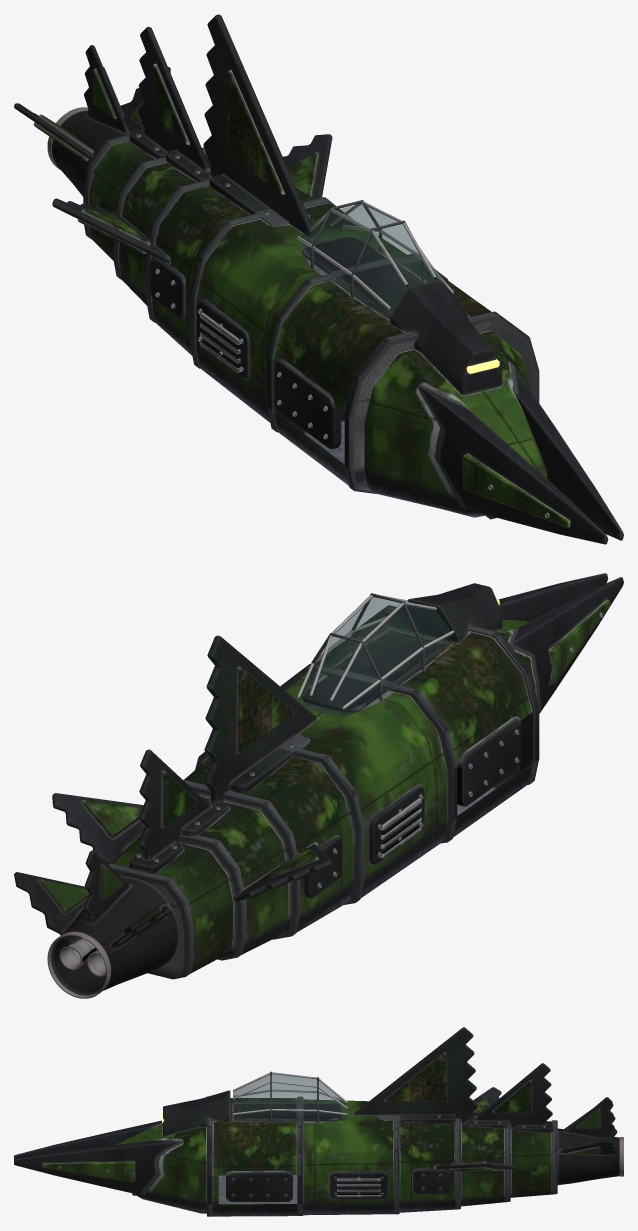
File: mantis.glb
3 renders of one model, top to bottom at view 1: azimuth 30°, elevation 25°; view 2: azimuth 150°, elevation 25°; view 3: azimuth 270°, elevation 25°, orthographic. The views are drawn at different scales.
Visible parts, largest first — view 1: mantis_body, canopy; view 2: mantis_body, canopy; view 3: mantis_body, canopy.
Boxes of the visible parts, x1=… form: mantis_body: x1=14, y1=14, x2=623, y2=544; canopy: x1=298, y1=204, x2=448, y2=319; mantis_body: x1=14, y1=573, x2=623, y2=998; canopy: x1=298, y1=597, x2=452, y2=717; mantis_body: x1=14, y1=1027, x2=623, y2=1216; canopy: x1=233, y1=1074, x2=346, y2=1122.
Size of the model in its own units: 1.25 by 1.28 by 4.17.
5 materials, 2 textured.
